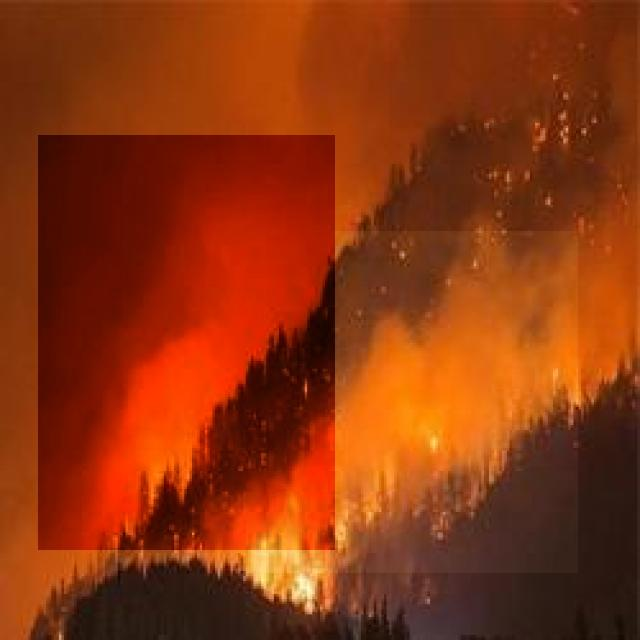Smoke: (38, 135, 335, 550), (248, 231, 578, 573)
